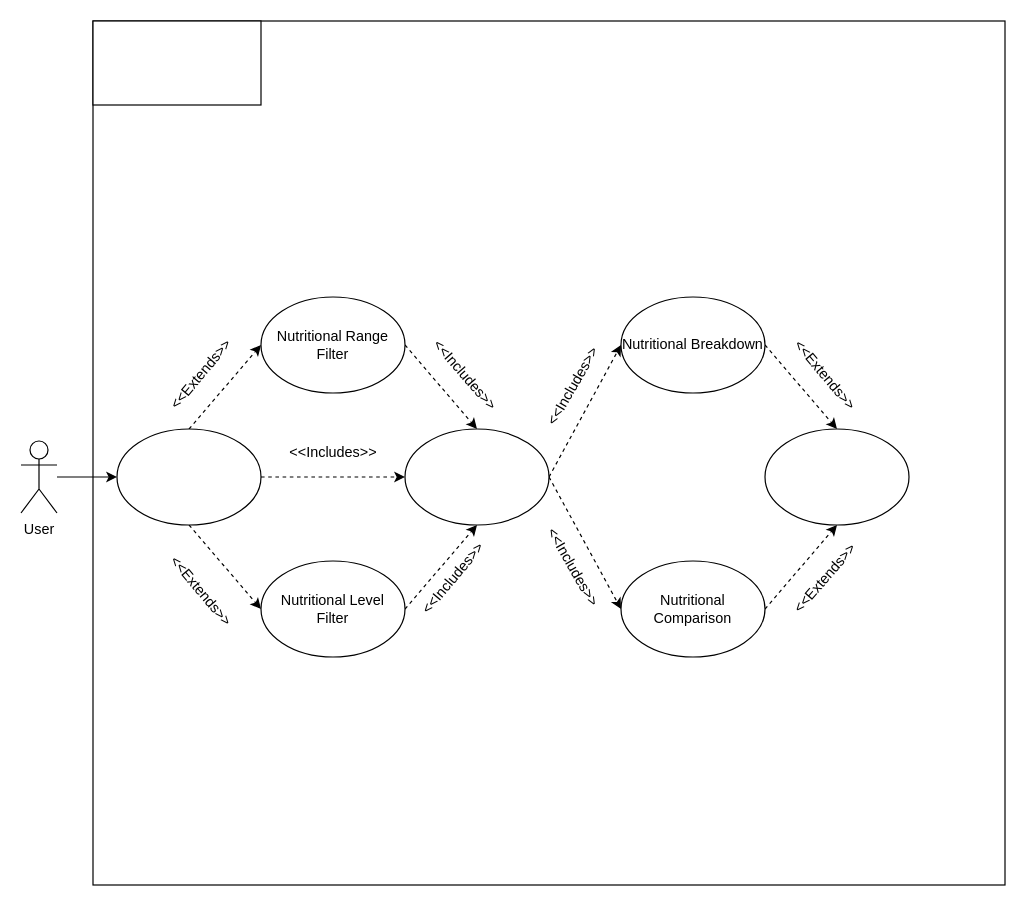
Image size: 1026x906. Some labels were removed from this diagram. Each missing label, with the box of its shape:
Data Visualisation: (764, 428, 909, 525)
Food Item: (404, 428, 549, 525)
Food Search: (116, 428, 261, 525)
